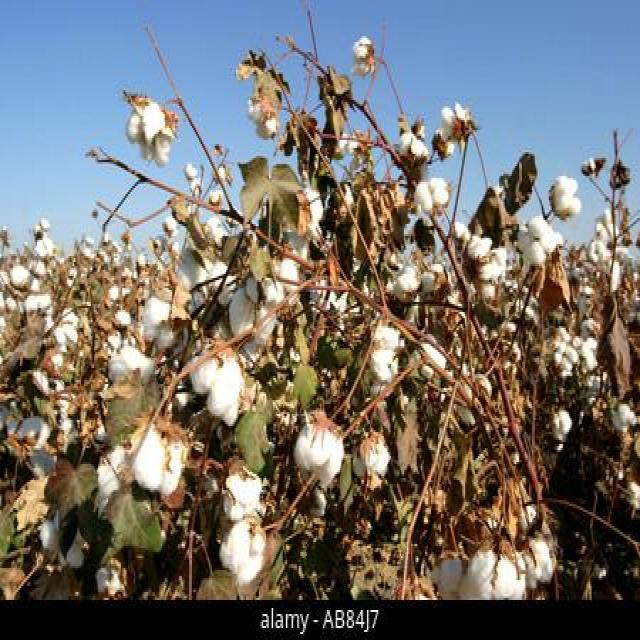Late_blight: (116, 400, 197, 504), (111, 79, 191, 176), (181, 334, 255, 431), (290, 401, 352, 492), (462, 522, 532, 601), (216, 450, 272, 524), (513, 203, 568, 274), (408, 174, 459, 224), (544, 170, 587, 225)
